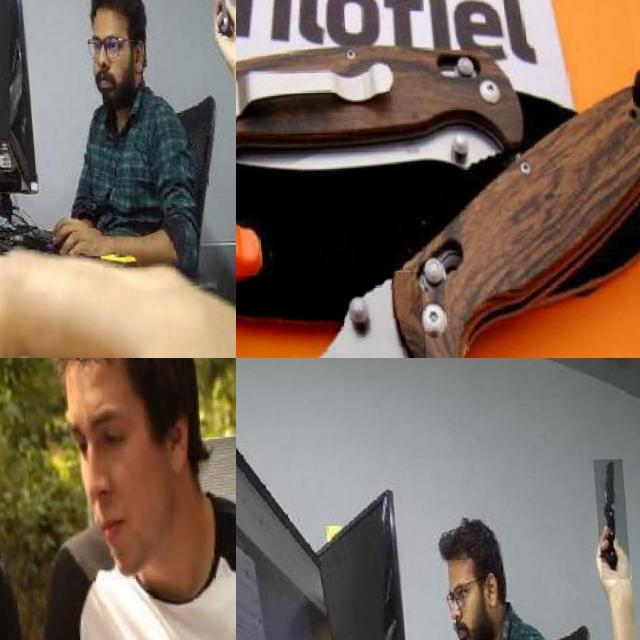-: (590, 462, 626, 582), (193, 0, 232, 48)
